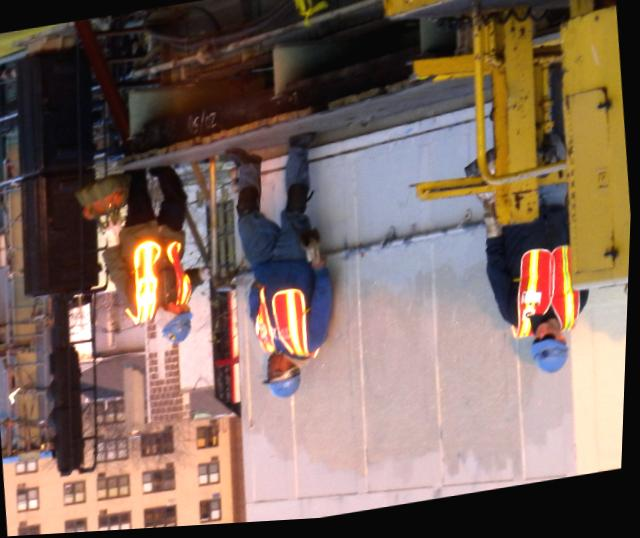helmet: (532, 335, 574, 379), (268, 373, 305, 407), (163, 315, 197, 351)
vest: (518, 250, 577, 347), (254, 281, 315, 371), (130, 240, 188, 316)
